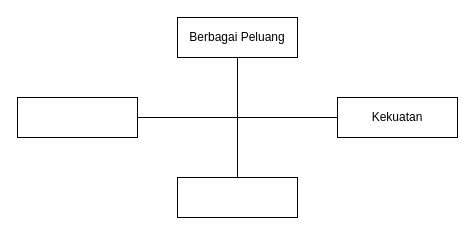
Some shapes in this 475 by 235 pixel diagram are drawn without their labels. Here are the shapes that lost their labels. From the top down, the centre of each, then its label:
At point (77, 117): "Kelemahan".
At point (237, 197): "Berbagai Ancaman".
